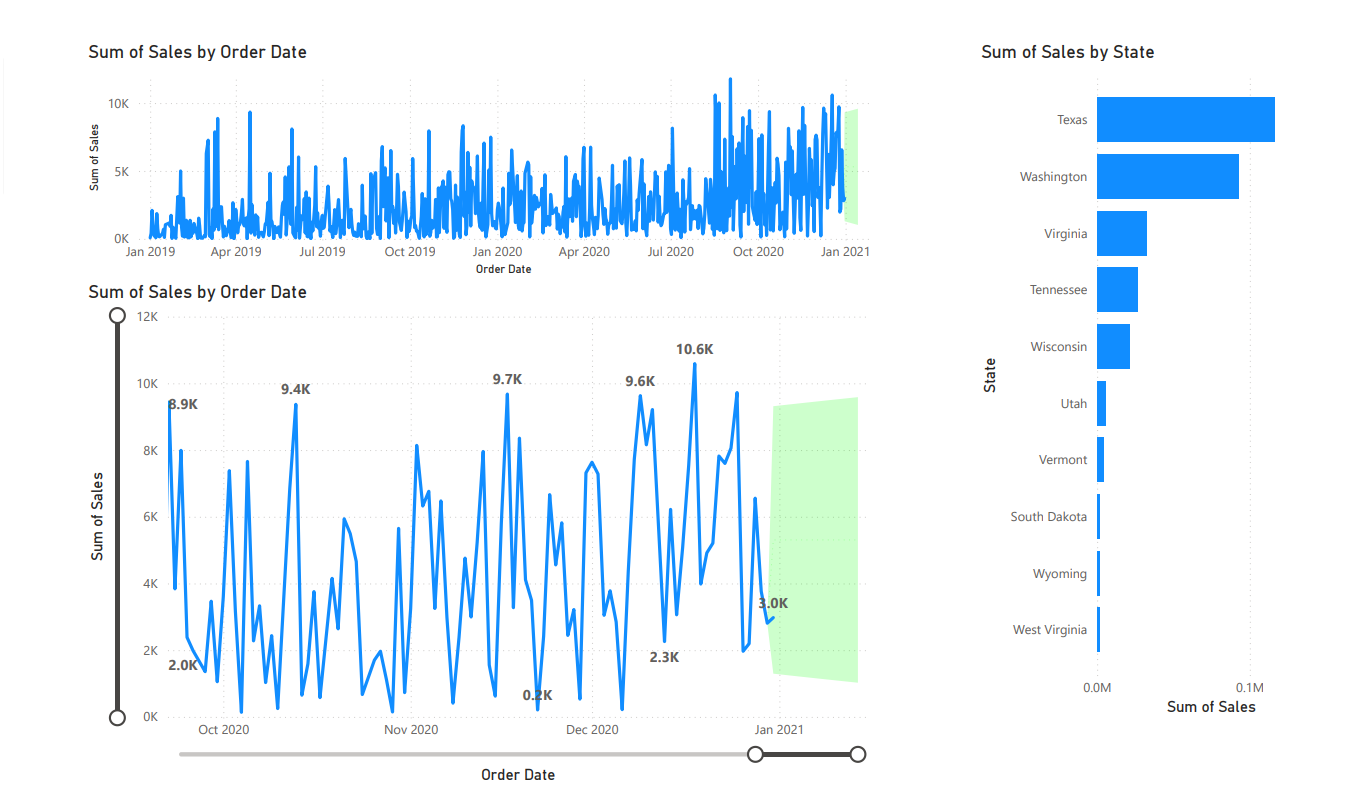

This screenshot's page, from the dashboard's own definition file:
{"tool":"powerbi","page":{"name":"Page 2","canvas":[1280,720],"ordinal":1},"visuals":[{"type":"lineChart","fields":{"Y":["Sum(SuperStore_Sales.Sales)"],"Category":["SuperStore_Sales.Order Date"]},"box":[75.5,17.8,756.1,226.4],"z":0},{"type":"lineChart","fields":{"Y":["Sum(SuperStore_Sales.Sales)"],"Category":["SuperStore_Sales.Order Date"]},"box":[75.5,244.3,756.1,476.2],"z":1000},{"type":"barChart","fields":{"Y":["Sum(SuperStore_Sales.Sales)"],"Category":["SuperStore_Sales.State"]},"box":[913.9,17.8,348.5,639.5],"z":2000}]}

Visuals, with their boxes on the page's 1280x720 design canvas (x1, y1, x2, y2). These are canvas units, not pixel positions in the 1370x807 screenshot, which may show the page scaled, cropped or inside an application window:
lineChart - Sum(SuperStore_Sales.Sales) x SuperStore_Sales.Order Date: 76/18/832/244
lineChart - Sum(SuperStore_Sales.Sales) x SuperStore_Sales.Order Date: 76/244/832/720
barChart - Sum(SuperStore_Sales.Sales) x SuperStore_Sales.State: 914/18/1262/657
